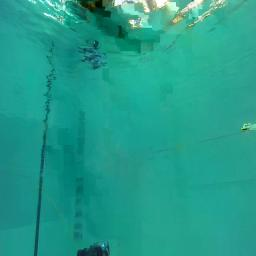Side: (76, 240, 110, 256)
